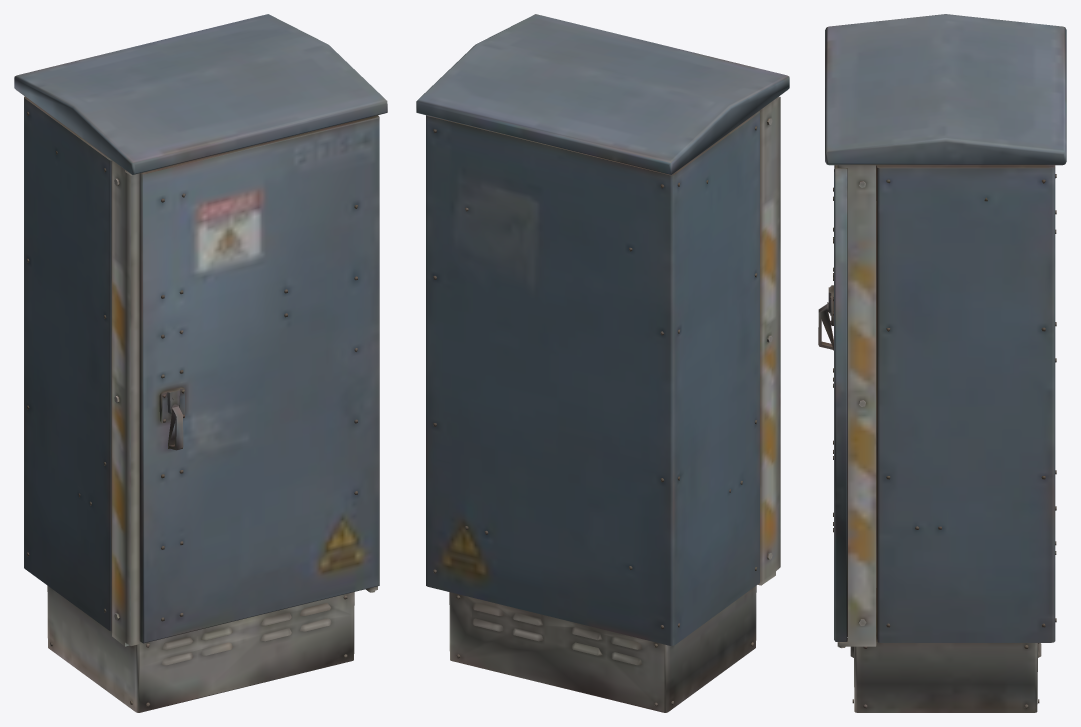
The model's file is utility_box_01.glb.
3 renders of one model, left to right at view 1: azimuth 30°, elevation 25°; view 2: azimuth 150°, elevation 25°; view 3: azimuth 270°, elevation 25°, orthographic.
Visible parts, largest first — view 1: utility_box_01_box, utility_box_01_box_lo; view 2: utility_box_01_box, utility_box_01_box_lo; view 3: utility_box_01_box, utility_box_01_box_lo.
Boxes of the visible parts, x1,y1,x2,y2 form: utility_box_01_box: [14, 14, 387, 712]; utility_box_01_box_lo: [115, 172, 374, 645]; utility_box_01_box: [416, 14, 789, 712]; utility_box_01_box_lo: [471, 97, 780, 665]; utility_box_01_box: [818, 14, 1066, 712]; utility_box_01_box_lo: [819, 165, 877, 648].
Bounding box in the file's own units: 0.52 × 1.12 × 0.4319.
Materials: 1 (1 with a texture image).
